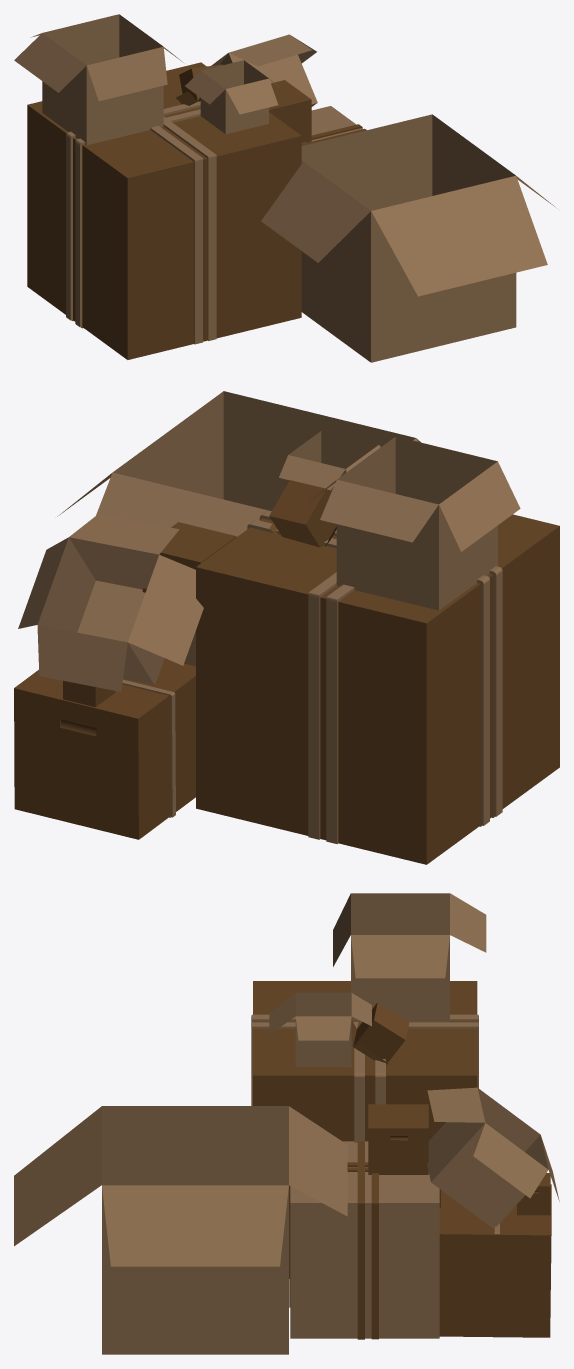
Rendered from Коробочное безумие!!!.fbx.
The picture shows the model from 3 angles, top to bottom: view 1: azimuth 30°, elevation 25°; view 2: azimuth 150°, elevation 25°; view 3: azimuth 270°, elevation 25°; orthographic projection. The views are drawn at different scales.
Parts seen in each view (by area): view 1: Cube.013, Cube.008, Cube.020, Cube.015, Cube.014, Cube.019, Cube, Cube.011, Cube.009, Cube.012, Cube.018, Cube.010 (+4 smaller); view 2: Cube.013, Cube.001, Cube.015, Cube, Cube.008, Cube.021, Cube.019, Cube.020, Cube.011, Cube.014, Cube.009, Cube.016 (+7 smaller); view 3: Cube.008, Cube.002, Cube.020, Cube.013, Cube.015, Cube.001, Cube, Cube.014, Cube.018, Cube.019, Cube.021, Cube.016 (+7 smaller).
Part boxes in pixels (left/top/right/bottom): Cube.013: left=27, top=62, right=301, bottom=359; Cube.008: left=261, top=114, right=555, bottom=362; Cube.020: left=262, top=114, right=546, bottom=361; Cube.015: left=14, top=14, right=183, bottom=145; Cube.014: left=185, top=60, right=278, bottom=134; Cube.019: left=15, top=15, right=180, bottom=145; Cube: left=211, top=34, right=317, bottom=106; Cube.011: left=163, top=116, right=216, bottom=340; Cube.009: left=150, top=126, right=202, bottom=344; Cube.012: left=75, top=109, right=200, bottom=328; Cube.018: left=269, top=80, right=311, bottom=142; Cube.010: left=66, top=101, right=200, bottom=320; Cube.013: left=196, top=514, right=559, bottom=864; Cube.001: left=14, top=659, right=195, bottom=839; Cube.015: left=309, top=436, right=520, bottom=610; Cube: left=18, top=514, right=203, bottom=691; Cube.008: left=57, top=391, right=420, bottom=536; Cube.021: left=19, top=514, right=201, bottom=690; Cube.019: left=322, top=437, right=519, bottom=609; Cube.020: left=65, top=391, right=416, bottom=536; Cube.011: left=308, top=572, right=336, bottom=839; Cube.014: left=276, top=430, right=380, bottom=494; Cube.009: left=326, top=584, right=354, bottom=844; Cube.016: left=269, top=480, right=336, bottom=547; Cube.008: left=14, top=1106, right=347, bottom=1354; Cube.002: left=290, top=1141, right=439, bottom=1338; Cube.020: left=14, top=1106, right=347, bottom=1354; Cube.013: left=253, top=981, right=477, bottom=1278; Cube.015: left=333, top=893, right=486, bottom=1022; Cube.001: left=439, top=1184, right=551, bottom=1337; Cube: left=427, top=1087, right=559, bottom=1227; Cube.014: left=269, top=992, right=371, bottom=1066; Cube.018: left=368, top=1104, right=428, bottom=1174; Cube.019: left=333, top=893, right=485, bottom=1021; Cube.021: left=427, top=1088, right=557, bottom=1223; Cube.016: left=351, top=1002, right=409, bottom=1064.
Size of the model in its own units: 1275 by 829 by 1390.
